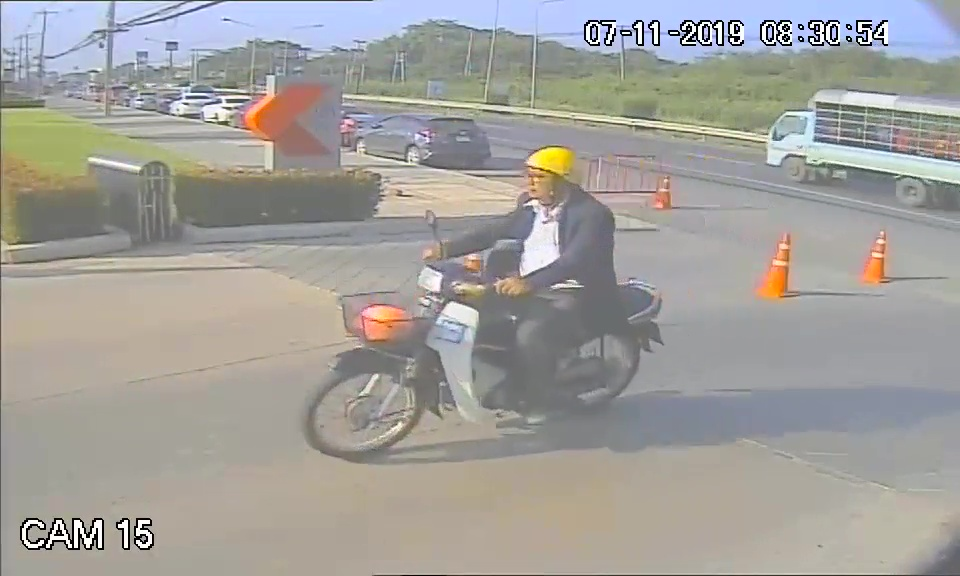motorcycle: (297, 257, 671, 462)
